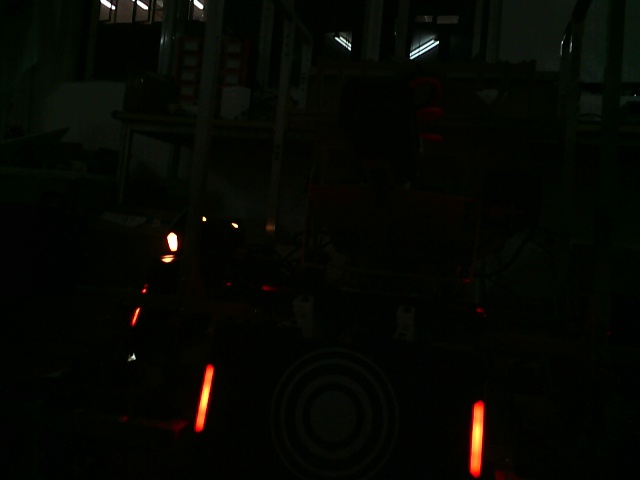lamp: (191, 363, 214, 433), (471, 397, 485, 480)
